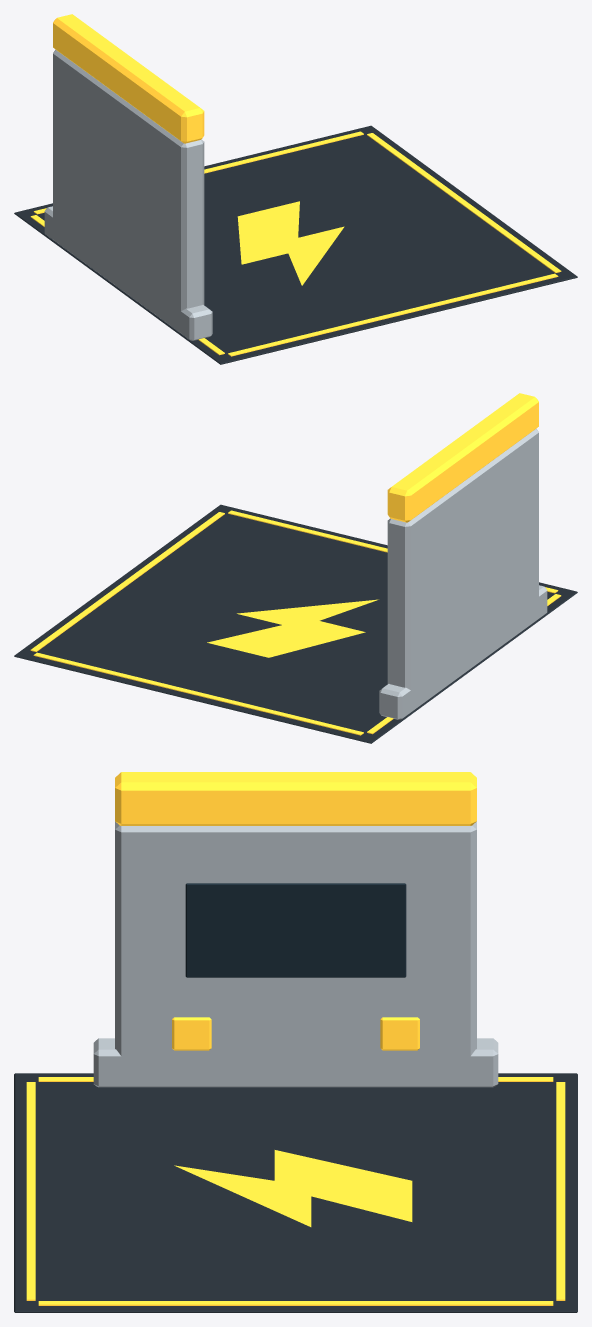
The model's file is charger.glb.
The picture shows the model from 3 angles, top to bottom: view 1: azimuth 30°, elevation 25°; view 2: azimuth 150°, elevation 25°; view 3: azimuth 270°, elevation 25°; orthographic projection. The views are drawn at different scales.
Visible parts, largest first — view 1: Charger_Geometry; view 2: Charger_Geometry; view 3: Charger_Geometry.
Boxes of the visible parts, <box> form: Charger_Geometry: <box>14,14,577,364</box>; Charger_Geometry: <box>14,393,577,743</box>; Charger_Geometry: <box>14,772,577,1312</box>.
Size of the model in its own units: 0.92 by 0.55 by 0.92.
